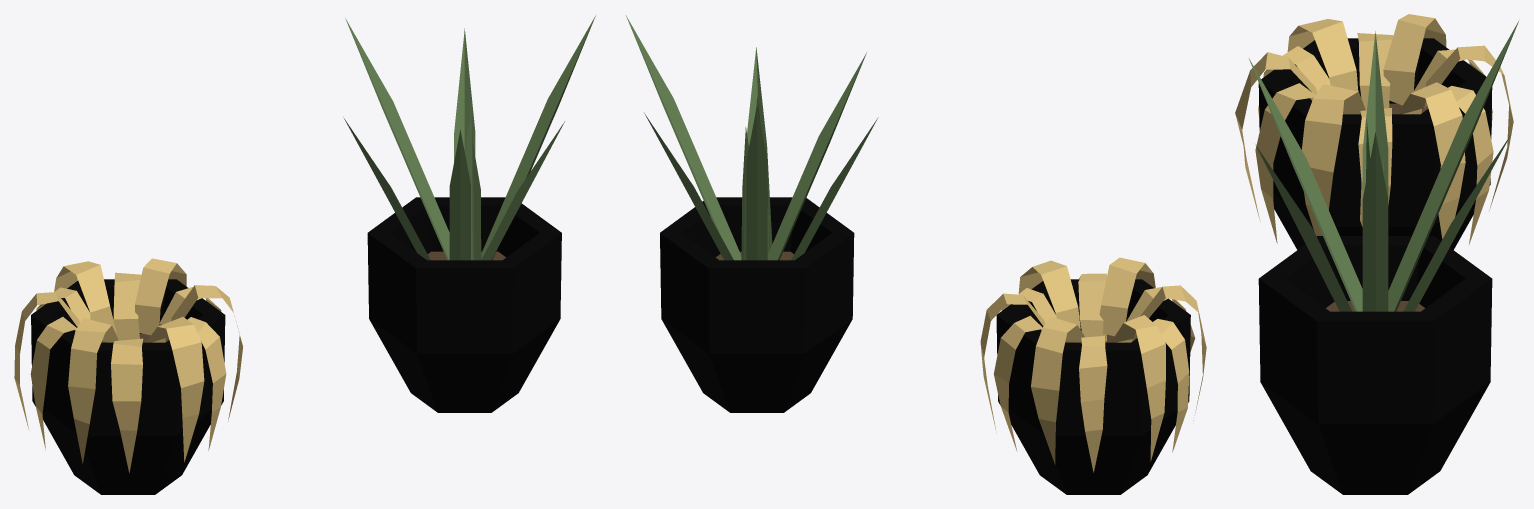
File: floor_plant.glb
3 renders of one model, left to right at view 1: azimuth 30°, elevation 25°; view 2: azimuth 150°, elevation 25°; view 3: azimuth 270°, elevation 25°, orthographic. The views are drawn at different scales.
Visible parts, largest first — view 1: Alive Plant, Dead Plant; view 2: Alive Plant, Dead Plant; view 3: Alive Plant, Dead Plant.
Boxes of the visible parts, <box> form: Alive Plant: <box>343,15,595,412</box>; Dead Plant: <box>14,258,242,494</box>; Alive Plant: <box>626,15,878,412</box>; Dead Plant: <box>980,257,1206,494</box>; Alive Plant: <box>1249,21,1518,494</box>; Dead Plant: <box>1235,14,1513,249</box>.
Bounding box in the file's own units: 6.64 × 3.94 × 2.44.
